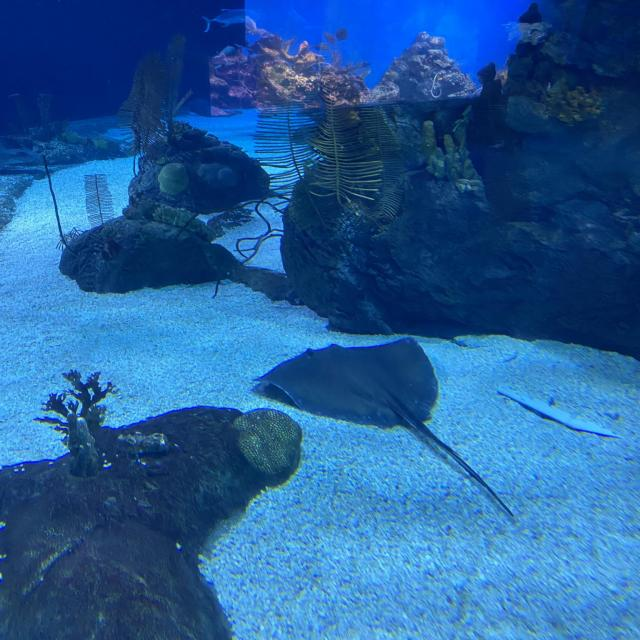fish: (201, 8, 260, 34)
stingray: (250, 336, 438, 429)
